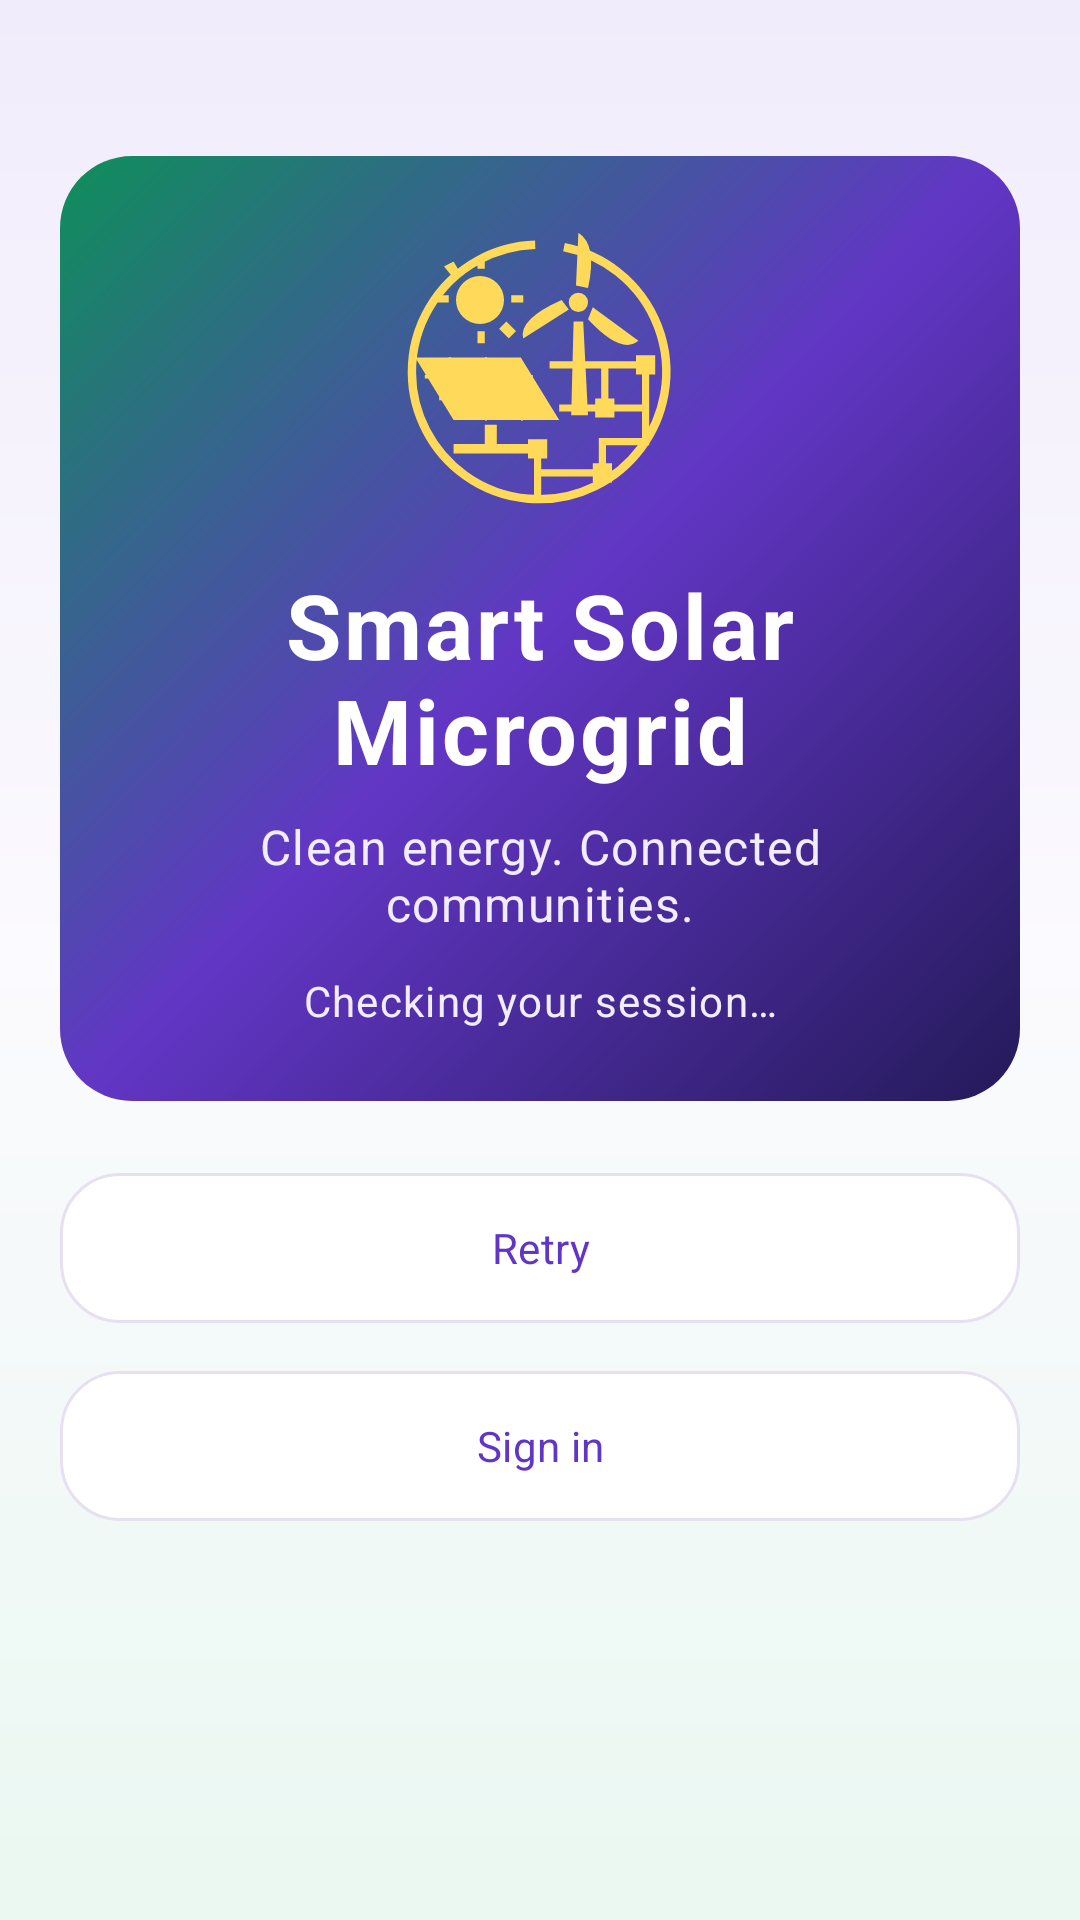

Icon bounding boxes for this 1080px x 1920px phone screenshot, format (x1, y1, x2, y2):
solar brand: (396, 228, 684, 516)
